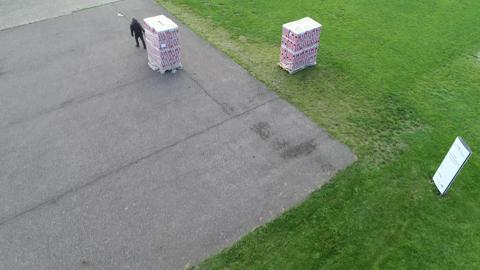RockwoolPallet: (145, 15, 179, 74)
